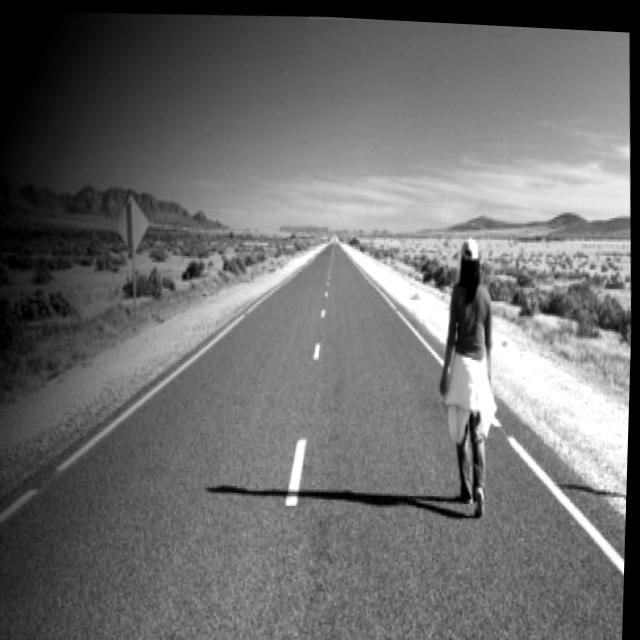cleat: (153, 131, 633, 640)
